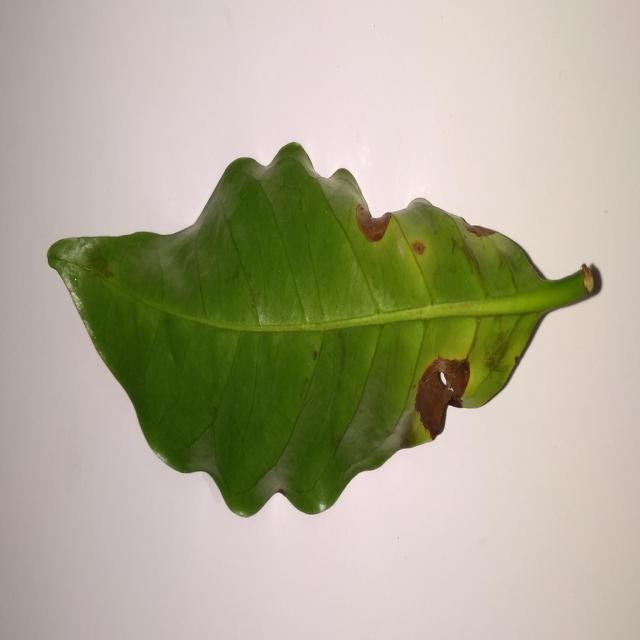Enfermedad-Antracnosis: (46, 143, 604, 521)
